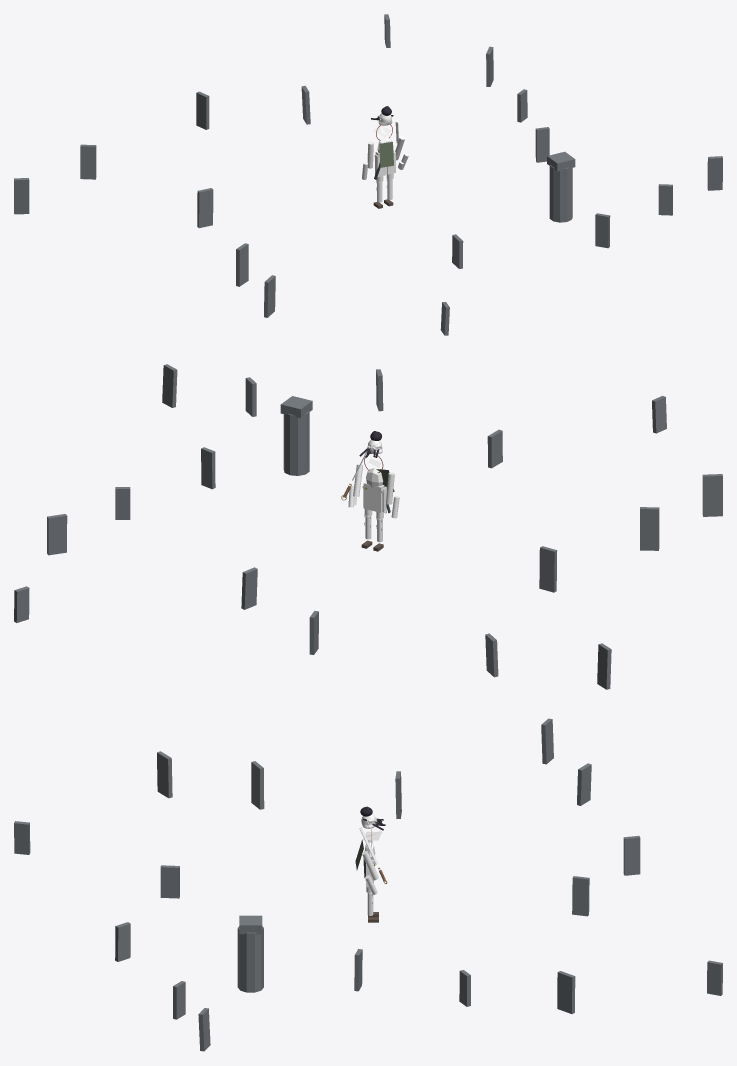
The model's file is ronin_cinematic_v0.5.glb.
The picture shows the model from 3 angles, top to bottom: view 1: azimuth 30°, elevation 25°; view 2: azimuth 150°, elevation 25°; view 3: azimuth 270°, elevation 25°; orthographic projection. The views are drawn at different scales.
Visible parts, largest first — view 1: Env_StoneLantern, Env_Gravestone_8, Env_Gravestone_6, Env_Gravestone_7, Env_Gravestone_15, Env_Gravestone_9; view 2: Env_StoneLantern, Env_Gravestone_10, Env_Gravestone_9, Env_Gravestone_2, Env_Gravestone_8, Env_Gravestone_4, Env_Gravestone_7, Env_Gravestone_15, Env_Gravestone_0, Env_Gravestone_3, Env_Gravestone_1, Env_LanternCap (+1 smaller); view 3: Env_StoneLantern, Env_Gravestone_2, Env_Gravestone_4, Env_Gravestone_5, Env_Gravestone_12, Env_Gravestone_10, Env_Gravestone_13, Env_Gravestone_9, Env_Gravestone_6, Env_Gravestone_11, Env_Gravestone_3.
Boxes of the visible parts, x1,y1,x2,y2 form: Env_StoneLantern: (549,165,572,222); Env_Gravestone_8: (197,188,213,228); Env_Gravestone_6: (80,144,96,179); Env_Gravestone_7: (14,178,29,214); Env_Gravestone_15: (707,156,722,190); Env_Gravestone_9: (236,243,248,286); Env_StoneLantern: (283,411,309,475); Env_Gravestone_10: (702,474,722,516); Env_Gravestone_9: (640,507,659,550); Env_Gravestone_2: (47,514,67,555); Env_Gravestone_8: (539,546,557,592); Env_Gravestone_4: (241,567,257,609); Env_Gravestone_7: (597,643,611,689); Env_Gravestone_15: (162,364,177,407); Env_Gravestone_0: (201,447,215,489); Env_Gravestone_3: (14,586,29,622); Env_Gravestone_1: (115,487,130,519); Env_LanternCap: (280,396,312,418); Env_StoneLantern: (237,926,263,992); Env_Gravestone_2: (557,971,575,1013); Env_Gravestone_4: (572,876,589,916); Env_Gravestone_5: (623,835,640,875); Env_Gravestone_12: (160,865,179,898); Env_Gravestone_10: (157,751,172,798); Env_Gravestone_13: (115,922,130,961); Env_Gravestone_9: (251,761,264,809); Env_Gravestone_6: (577,763,591,805); Env_Gravestone_11: (14,821,30,854); Env_Gravestone_3: (707,960,722,995).
Size of what is drawn, in the model's own units: 10.83 by 1.92 by 10.81.
